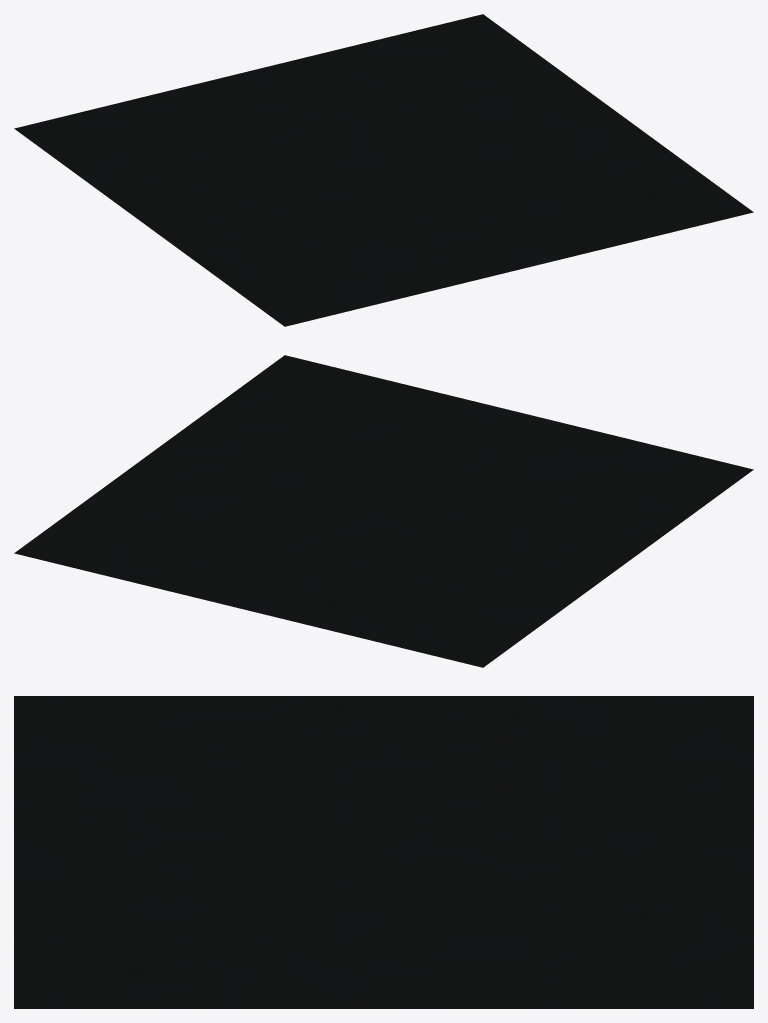
Rendered from harbour-water-tile20m.glb.
3 renders of one model, top to bottom at view 1: azimuth 30°, elevation 25°; view 2: azimuth 150°, elevation 25°; view 3: azimuth 270°, elevation 25°, orthographic. The views are drawn at different scales.
Visible parts, largest first — view 1: Opaque rippling harbour tile; view 2: Opaque rippling harbour tile; view 3: Opaque rippling harbour tile.
Part boxes in pixels (x1,y1,x2,y2): Opaque rippling harbour tile: (14, 14, 753, 326); Opaque rippling harbour tile: (14, 355, 753, 667); Opaque rippling harbour tile: (14, 696, 753, 1008).
Size of the model in its own units: 20 by 0.00747 by 20.
Materials: 1 (1 with a texture image).
